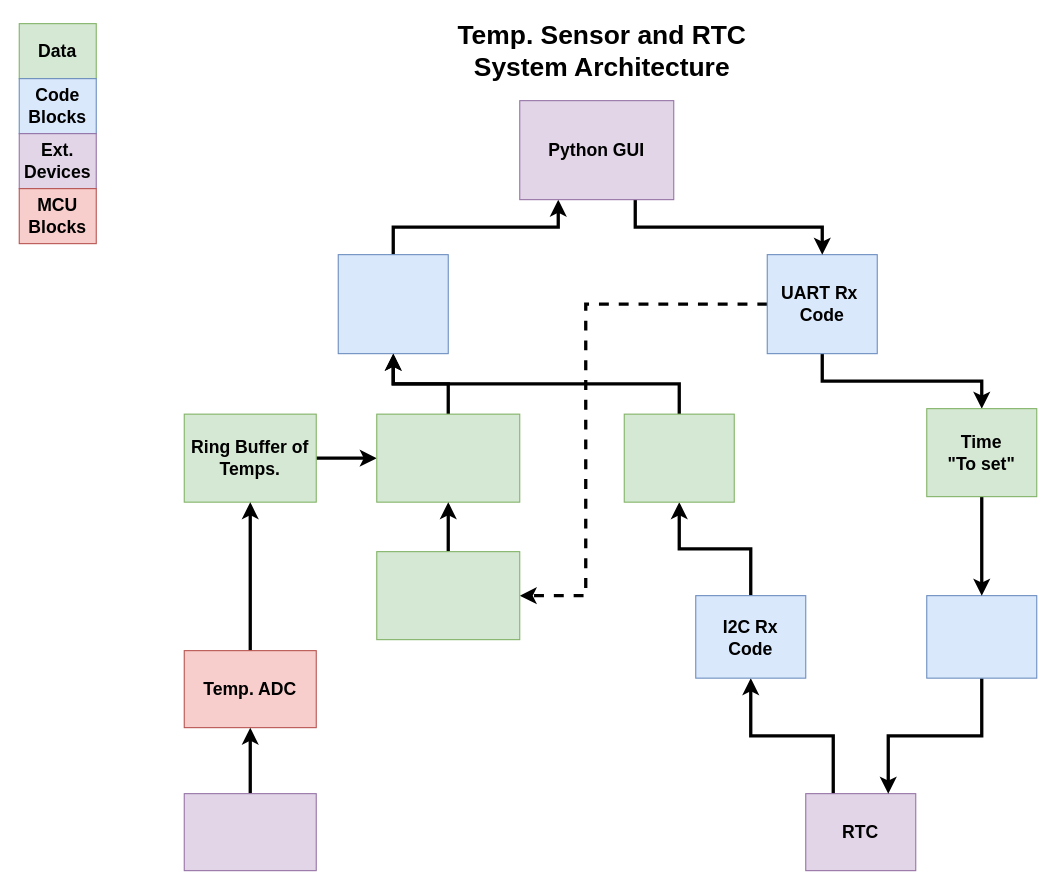
Some shapes in this 1056 by 890 pixel diagram are drawn without their labels. Each missing label, with the centre of its shape:
Averaging Window Size: the point at 448,595
Formatted Time: the point at 678,457
I2C Tx Code: the point at 981,636
Recent Average Temperature: the point at 448,457
Temp. Sensor: the point at 249,832
UART Tx Code: the point at 392,304
